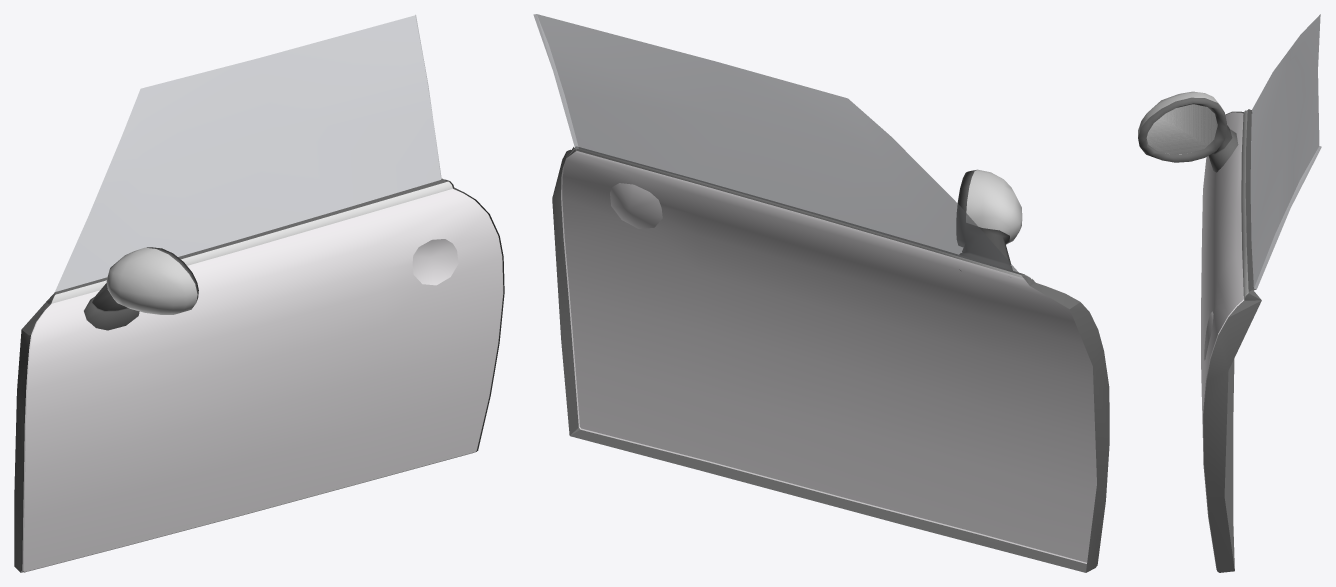
Rendered from car-door.dae.
The picture shows the model from 3 angles, left to right: view 1: azimuth 30°, elevation 25°; view 2: azimuth 150°, elevation 25°; view 3: azimuth 270°, elevation 25°; orthographic projection. The views are drawn at different scales.
Parts seen in each view (by area): view 1: SketchUp.439; view 2: SketchUp.439; view 3: SketchUp.439.
Boxes of the visible parts, bbox=[...] form: SketchUp.439: bbox=[14, 15, 504, 572]; SketchUp.439: bbox=[533, 14, 1109, 572]; SketchUp.439: bbox=[1138, 14, 1321, 572].
Bounding box in the file's own units: 1.34 × 0.4266 × 1.1.
Materials: 6 (1 with a texture image).
